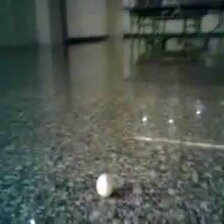w: (95, 172, 114, 197)
